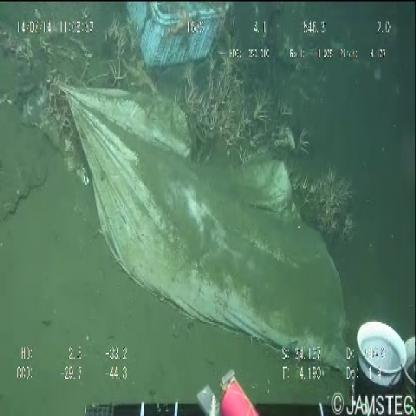Rov: (73, 294, 416, 416)
Rác: (124, 2, 237, 78)
